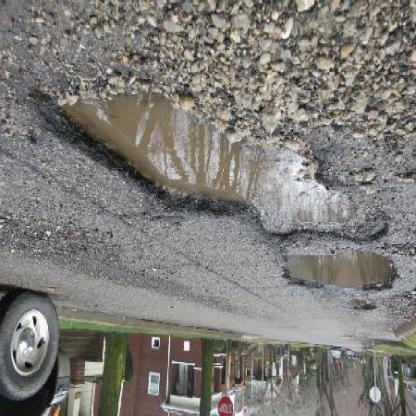pothole: (36, 79, 393, 245), (283, 251, 402, 297), (351, 301, 380, 317)
